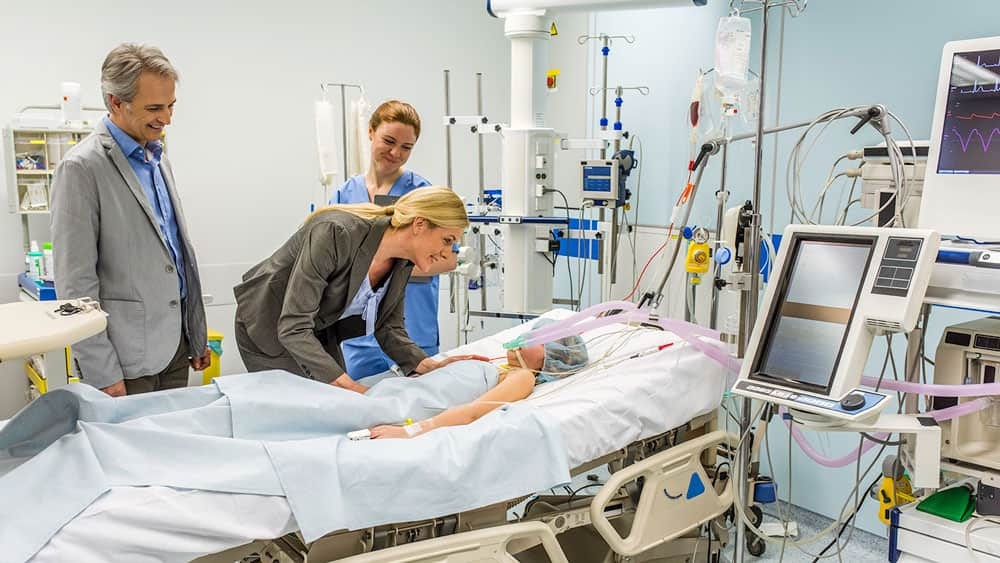bedrail: (590, 429, 755, 554), (330, 511, 573, 563)
bedside_monitor: (731, 217, 938, 430), (916, 32, 1000, 247)
breathing_tube: (502, 297, 1000, 469)
hospital_bed: (1, 307, 744, 563)
iv_pole: (727, 1, 810, 562), (575, 31, 631, 295), (588, 84, 647, 283), (315, 79, 362, 183)
mouse: (839, 389, 869, 413)
overbed_table: (1, 289, 108, 361)
patient: (39, 315, 587, 485)
staff: (328, 99, 460, 381)
utility_cart: (13, 126, 113, 405)
visitor: (50, 38, 212, 399), (234, 184, 494, 395)
